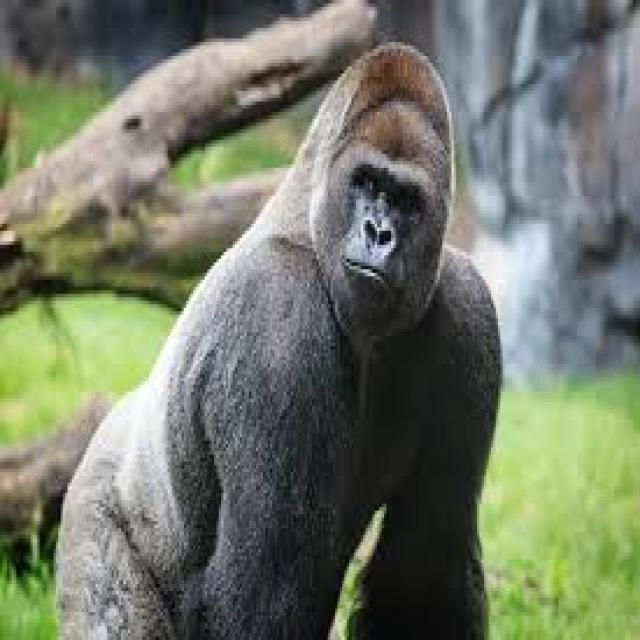Gorilla: (62, 31, 505, 640)
